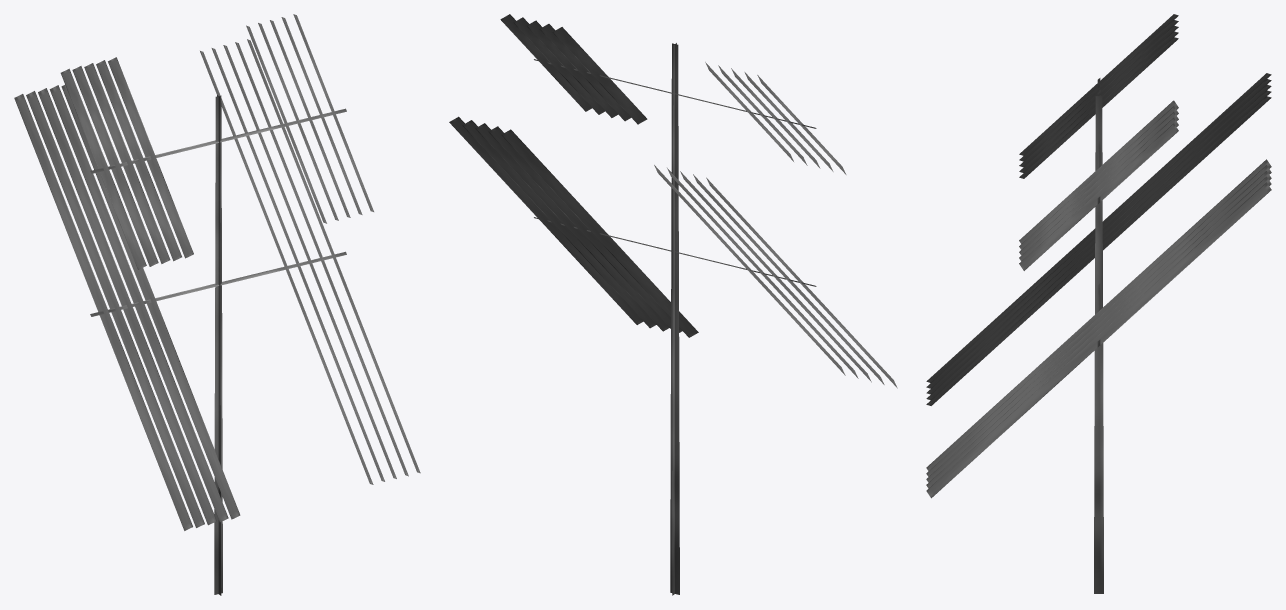
The model's file is antenna_5.obj.
The picture shows the model from 3 angles, left to right: view 1: azimuth 30°, elevation 25°; view 2: azimuth 150°, elevation 25°; view 3: azimuth 270°, elevation 25°; orthographic projection. The views are drawn at different scales.
Visible parts, largest first — view 1: antenna_5; view 2: antenna_5; view 3: antenna_5.
Part boxes in pixels (box(x1,y1,x2,y2)): antenna_5: box(14, 14, 420, 595); antenna_5: box(449, 14, 897, 595); antenna_5: box(926, 14, 1271, 593).
Size of the model in its own units: 1.09 by 2.15 by 1.28.
1 material, 1 textured.
